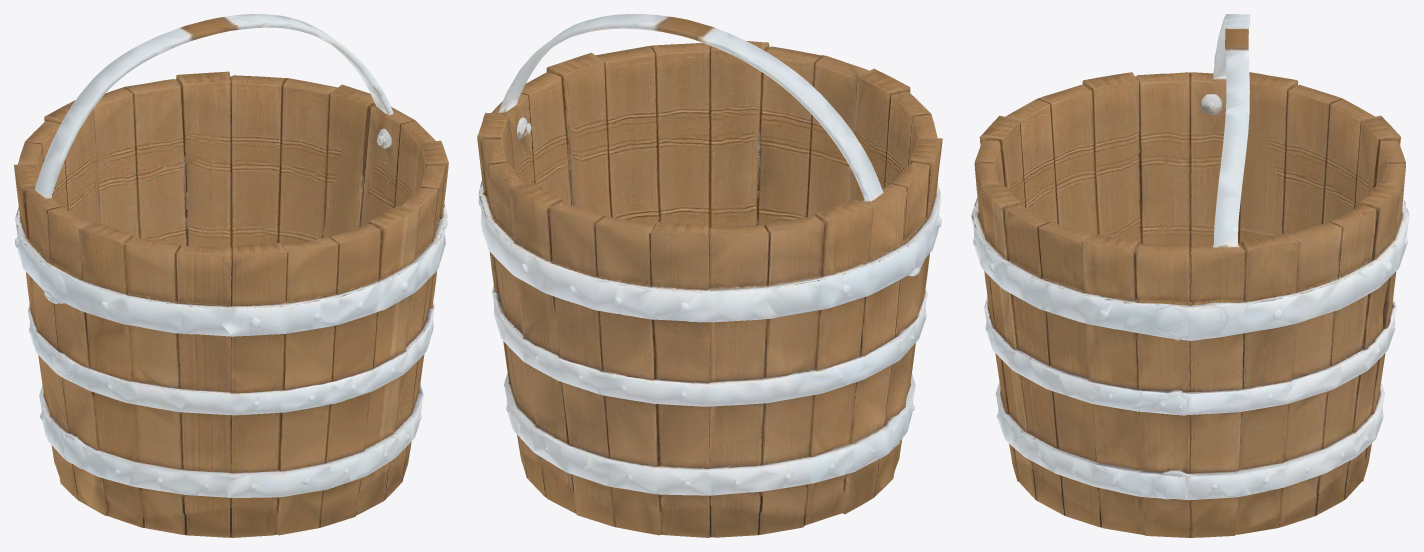
File: wooden-bucket.glb
3 renders of one model, left to right at view 1: azimuth 30°, elevation 25°; view 2: azimuth 150°, elevation 25°; view 3: azimuth 270°, elevation 25°, orthographic. The views are drawn at different scales.
Parts seen in each view (by area): view 1: Mesh_0.001; view 2: Mesh_0.001; view 3: Mesh_0.001.
Part boxes in pixels (x1,y1,x2,y2): Mesh_0.001: (14, 14, 448, 537); Mesh_0.001: (477, 14, 942, 537); Mesh_0.001: (971, 14, 1409, 537).
Size of the model in its own units: 0.2374 by 0.25 by 0.2341.
Materials: 1 (1 with a texture image).
